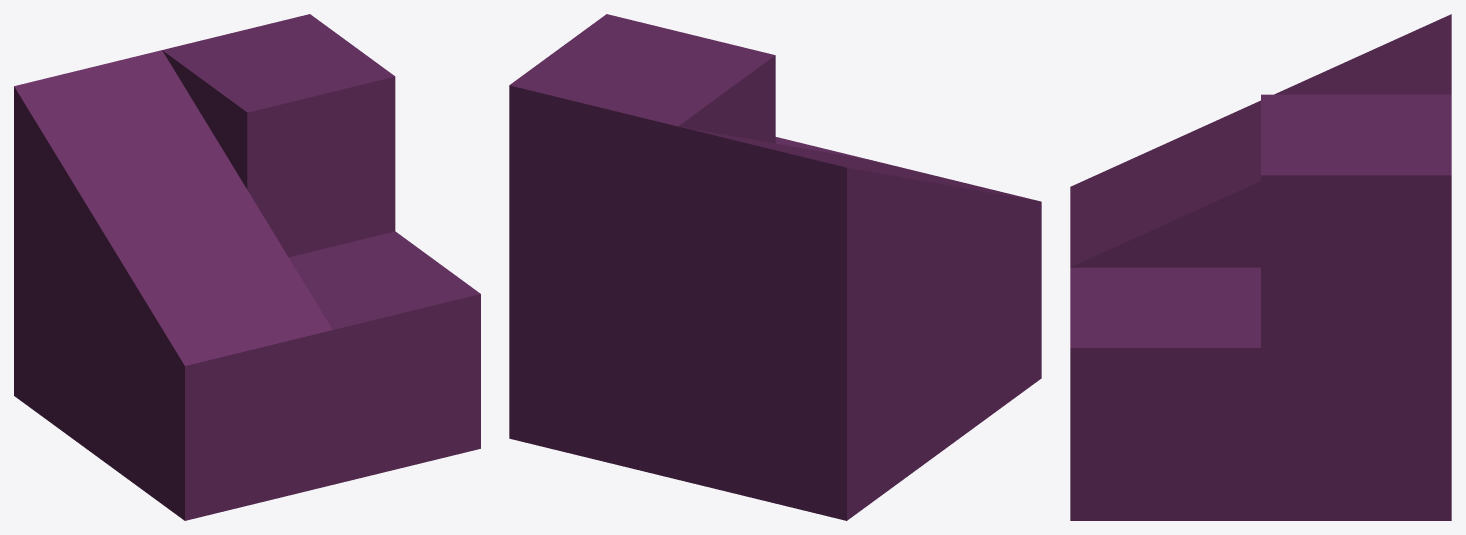
Rendered from Pieza-B.glb.
3 renders of one model, left to right at view 1: azimuth 30°, elevation 25°; view 2: azimuth 150°, elevation 25°; view 3: azimuth 270°, elevation 25°, orthographic. The views are drawn at different scales.
Visible parts, largest first — view 1: Pieza-B.stl; view 2: Pieza-B.stl; view 3: Pieza-B.stl.
Boxes of the visible parts, bbox=[...] form: Pieza-B.stl: bbox=[14, 14, 480, 520]; Pieza-B.stl: bbox=[509, 14, 1041, 520]; Pieza-B.stl: bbox=[1070, 14, 1451, 520].
Size of the model in its own units: 4 by 4 by 4.
